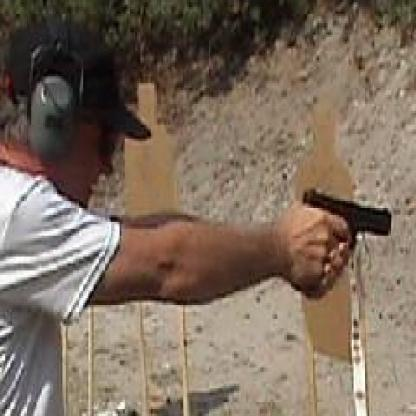gun: (293, 185, 402, 266)
